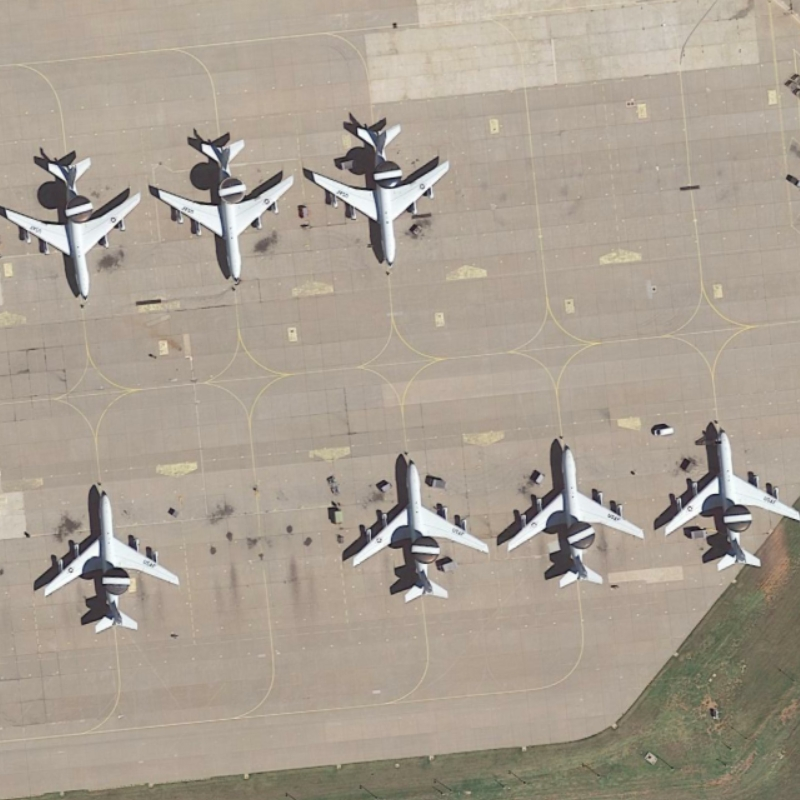A7: (302, 116, 460, 270), (339, 447, 497, 601), (149, 130, 299, 291), (1, 146, 147, 311), (31, 484, 182, 636), (503, 439, 649, 592), (662, 422, 800, 568)
